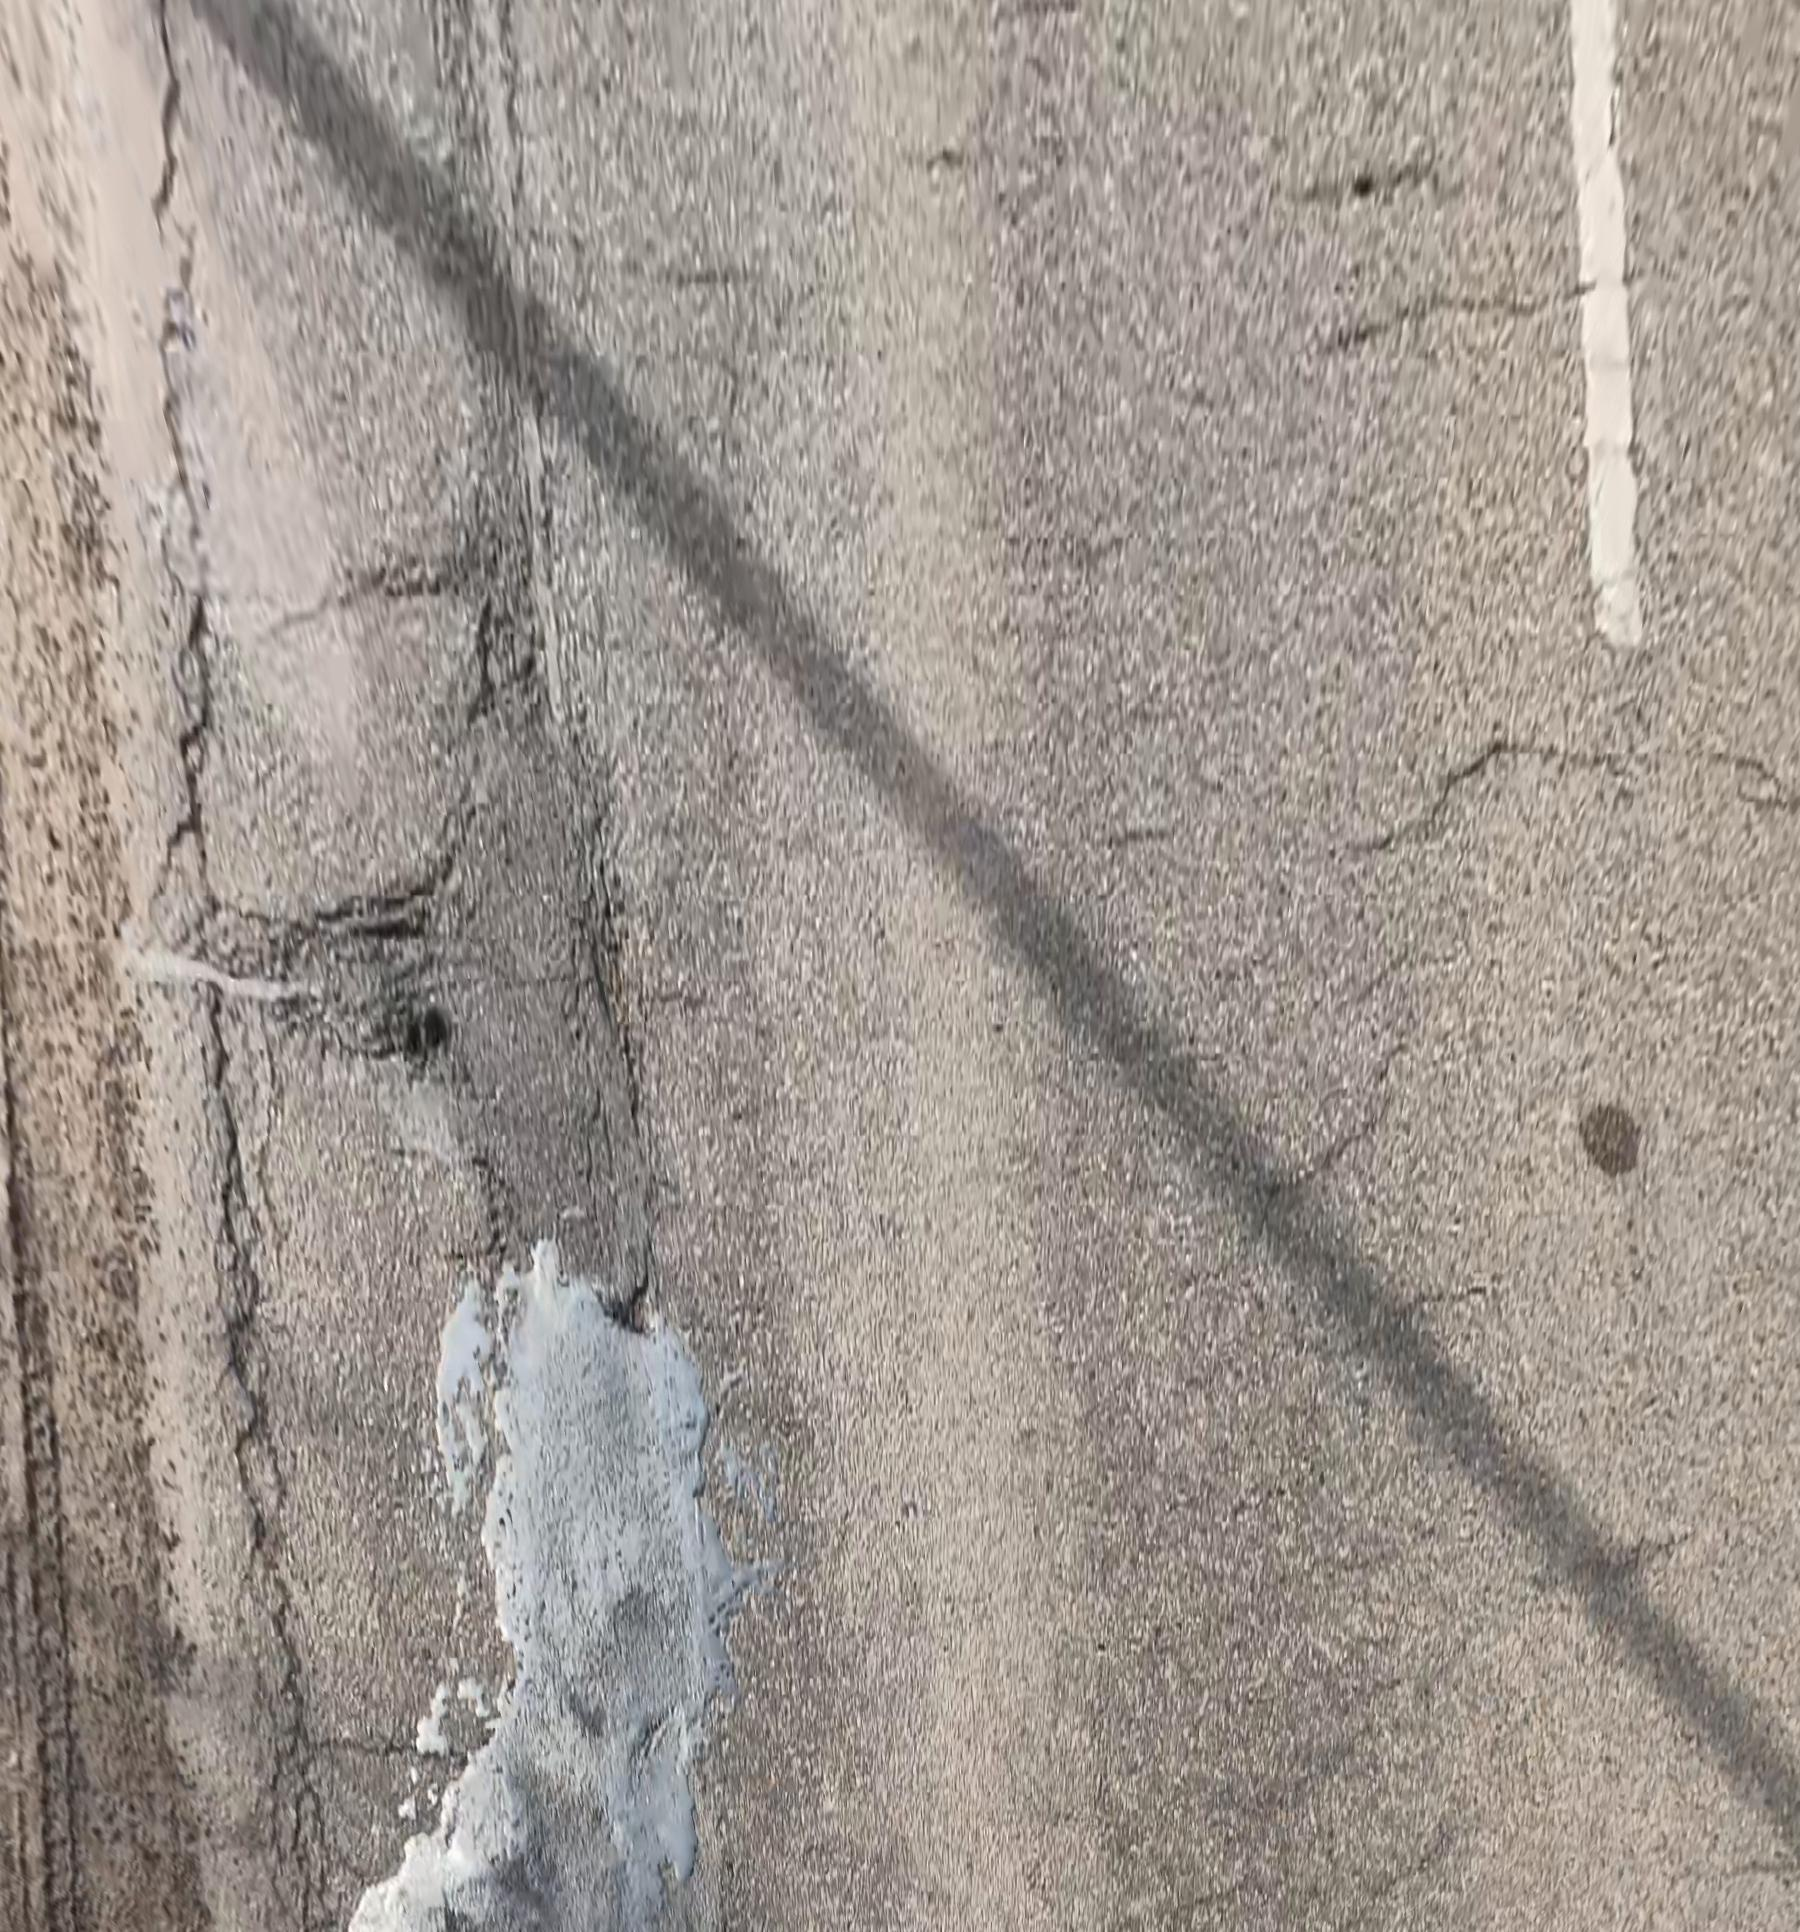pothole: (359, 995, 455, 1076)
pothole_patch_good: (347, 1242, 748, 1932)
pothole_patch_poor: (179, 464, 650, 1318)
